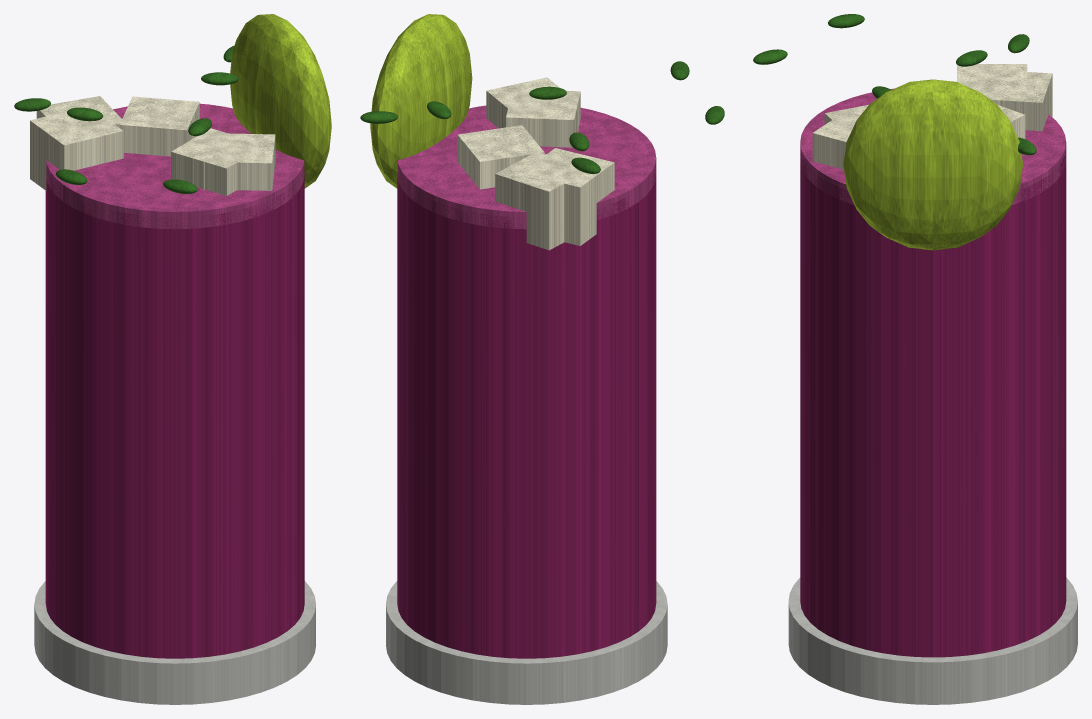
The model's file is atardecer-andino.glb.
3 views of the same model, side by side, from view 1: azimuth 30°, elevation 25°; view 2: azimuth 150°, elevation 25°; view 3: azimuth 270°, elevation 25° (orthographic). The views are drawn at different scales.
Parts seen in each view (by area): view 1: part1, part3, part0, part2, part4, part5; view 2: part1, part3, part0, part2, part4, part5; view 3: part1, part4, part0, part3, part2, part5.
Boxes of the visible parts, left/top/right/bottom form: part1: left=45, top=166, right=304, bottom=658; part3: left=30, top=96, right=275, bottom=195; part0: left=34, top=581, right=315, bottom=704; part2: left=46, top=103, right=304, bottom=229; part4: left=230, top=14, right=331, bottom=188; part5: left=14, top=45, right=238, bottom=193; part1: left=397, top=165, right=656, bottom=658; part3: left=457, top=77, right=614, bottom=250; part0: left=386, top=581, right=667, bottom=704; part2: left=397, top=105, right=656, bottom=229; part4: left=370, top=14, right=472, bottom=188; part5: left=360, top=61, right=724, bottom=173; part1: left=800, top=152, right=1066, bottom=657; part4: left=843, top=79, right=1022, bottom=250; part0: left=788, top=577, right=1077, bottom=704; part3: left=812, top=64, right=1052, bottom=169; part2: left=800, top=88, right=1066, bottom=204; part5: left=753, top=14, right=1036, bottom=155.
Bounding box in the file's own units: 0.0872 × 0.174 × 0.0831.
Materials: 6 (6 with a texture image).
